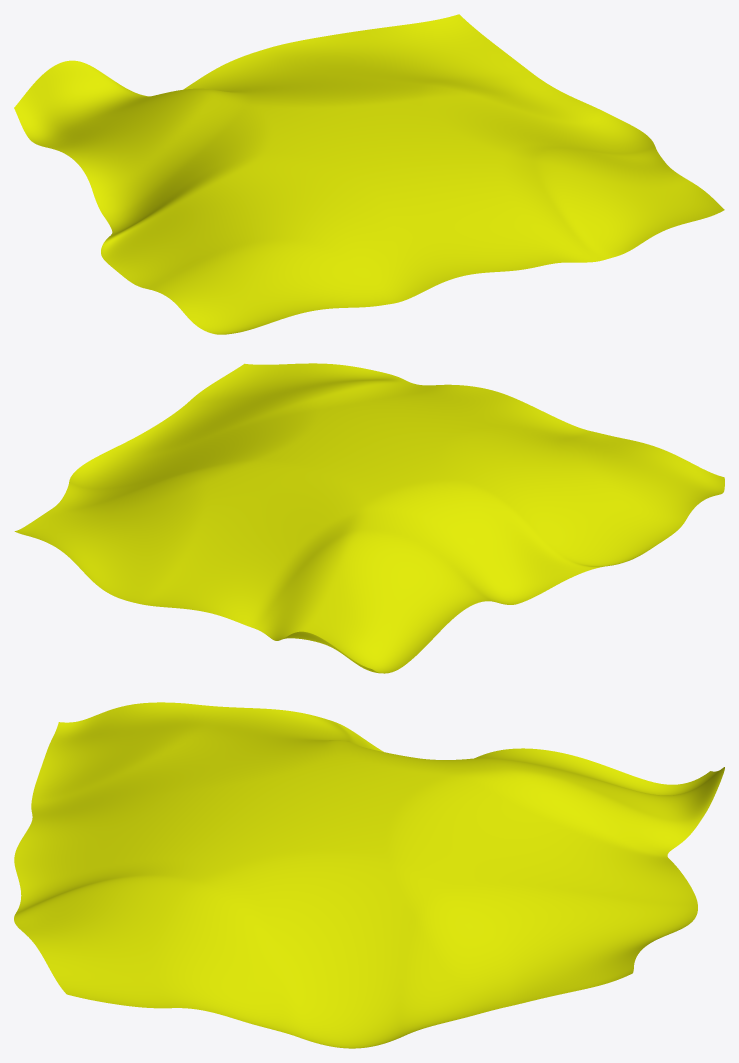
Rendered from beach2.glb.
The picture shows the model from 3 angles, top to bottom: view 1: azimuth 30°, elevation 25°; view 2: azimuth 150°, elevation 25°; view 3: azimuth 270°, elevation 25°; orthographic projection. The views are drawn at different scales.
Visible parts, largest first — view 1: Plane; view 2: Plane; view 3: Plane.
Boxes of the visible parts, x1=… form: Plane: x1=14, y1=14, x2=724, y2=334; Plane: x1=14, y1=363, x2=724, y2=673; Plane: x1=14, y1=702, x2=724, y2=1048.
Bounding box in the file's own units: 99.26 × 13.91 × 96.48.
